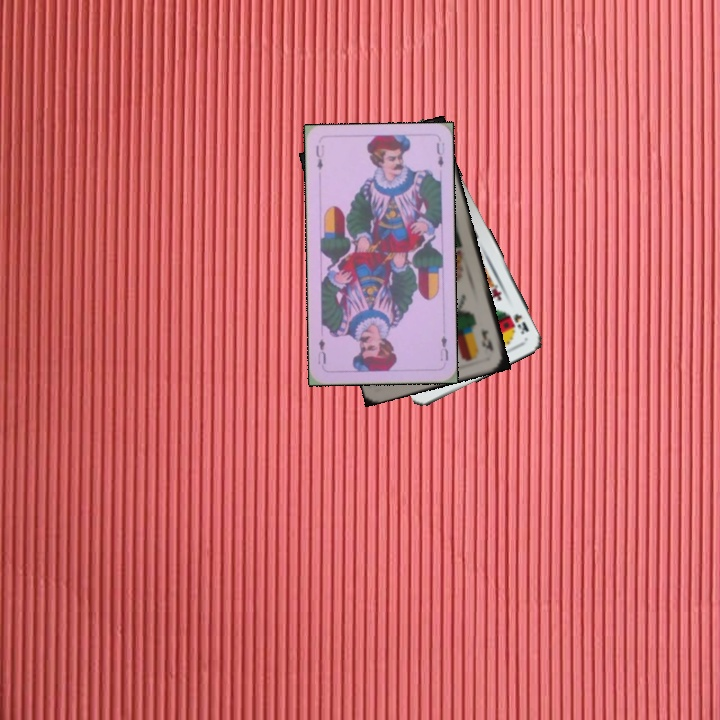EK: (477, 324, 496, 354)
EU: (436, 332, 451, 363), (312, 141, 326, 172)
SK: (510, 309, 531, 337)
